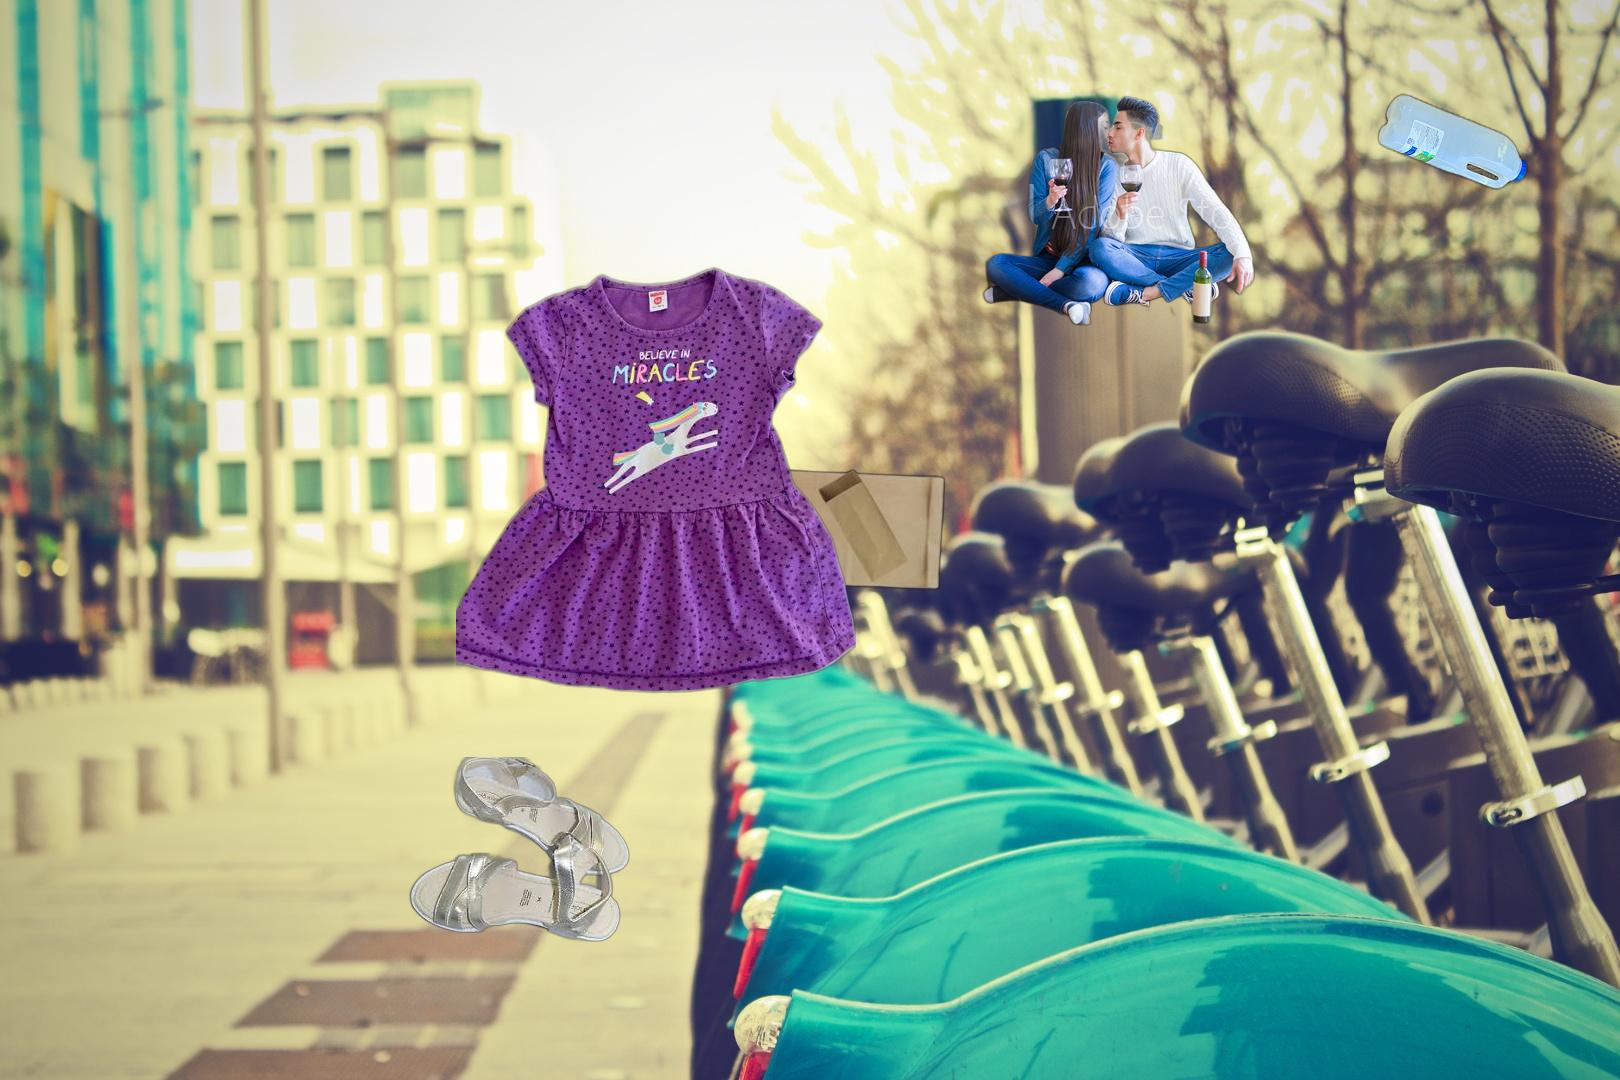clothes: (456, 264, 856, 698)
paper-bag: (771, 468, 947, 592)
plastic-bottles: (1374, 89, 1531, 194)
shoes: (407, 757, 632, 944)
trashbox-cardboard: (979, 83, 1260, 331)
